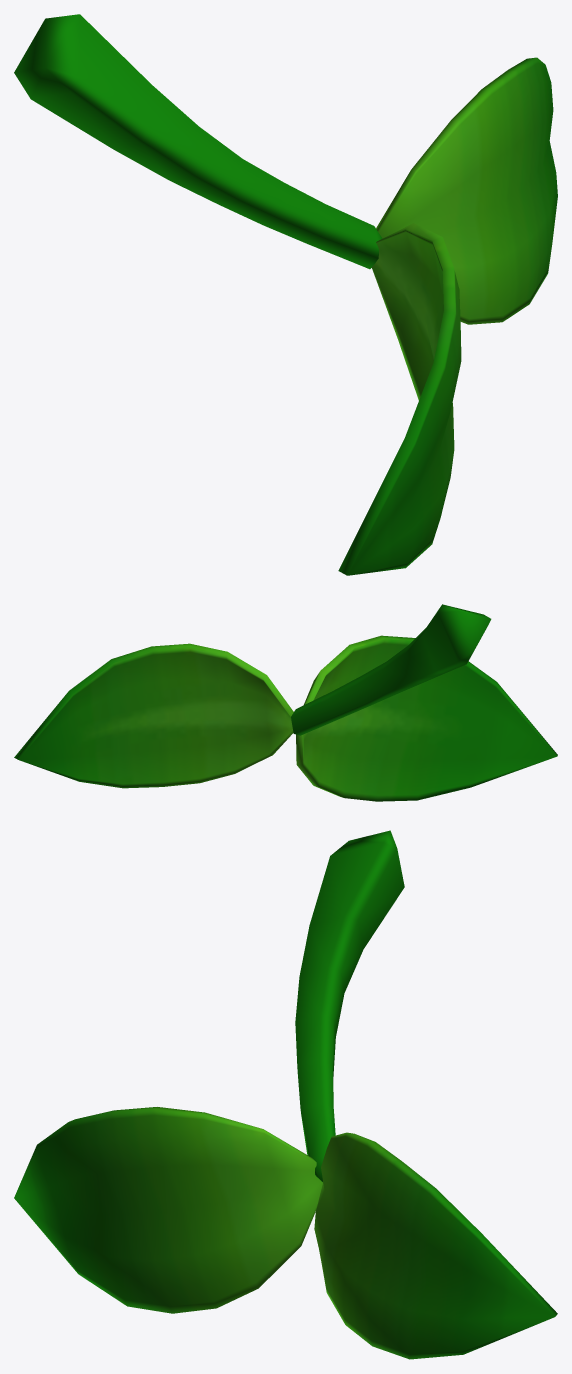
Rendered from AccessoryMouthLeafGreen.glb.
3 views of the same model, one above another, from view 1: azimuth 30°, elevation 25°; view 2: azimuth 150°, elevation 25°; view 3: azimuth 270°, elevation 25° (orthographic). The views are drawn at different scales.
Parts seen in each view (by area): view 1: Accessory__mAccessory; view 2: Accessory__mAccessory; view 3: Accessory__mAccessory.
Boxes of the visible parts, x1,y1,x2,y2 form: Accessory__mAccessory: [14, 14, 557, 575]; Accessory__mAccessory: [14, 604, 557, 801]; Accessory__mAccessory: [14, 830, 557, 1359].
Bounding box in the file's own units: 2.15 × 1.54 × 1.98.
1 material, 1 textured.
